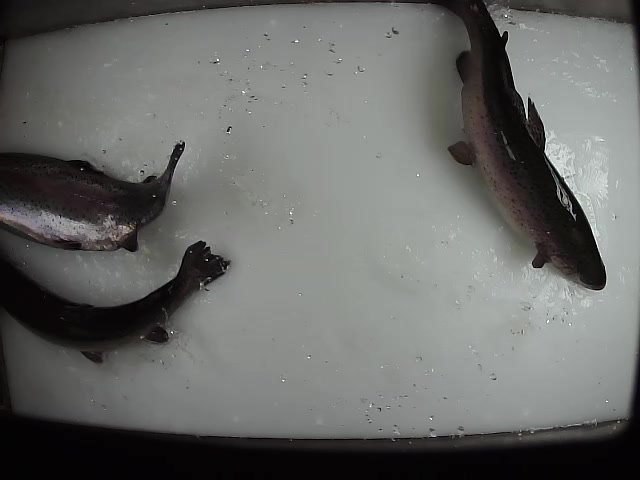fish: (428, 1, 608, 290)
